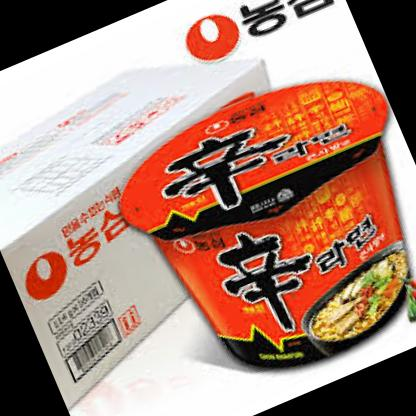Ramen: (99, 50, 416, 404)
